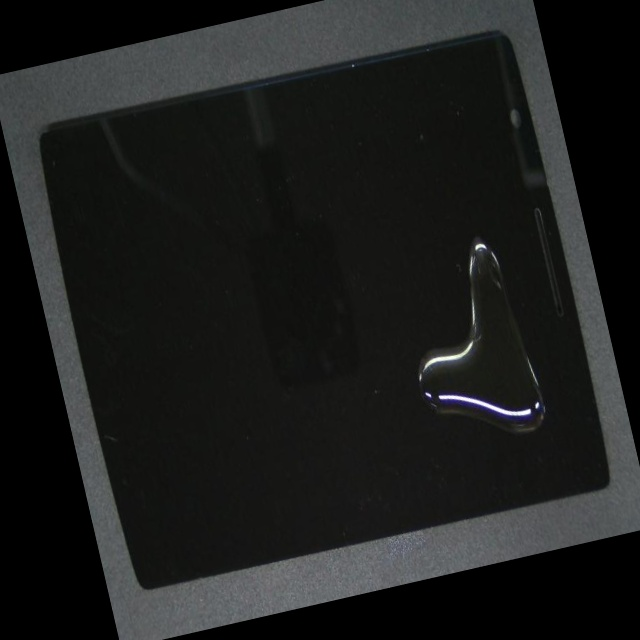oil: (265, 196, 640, 599)
